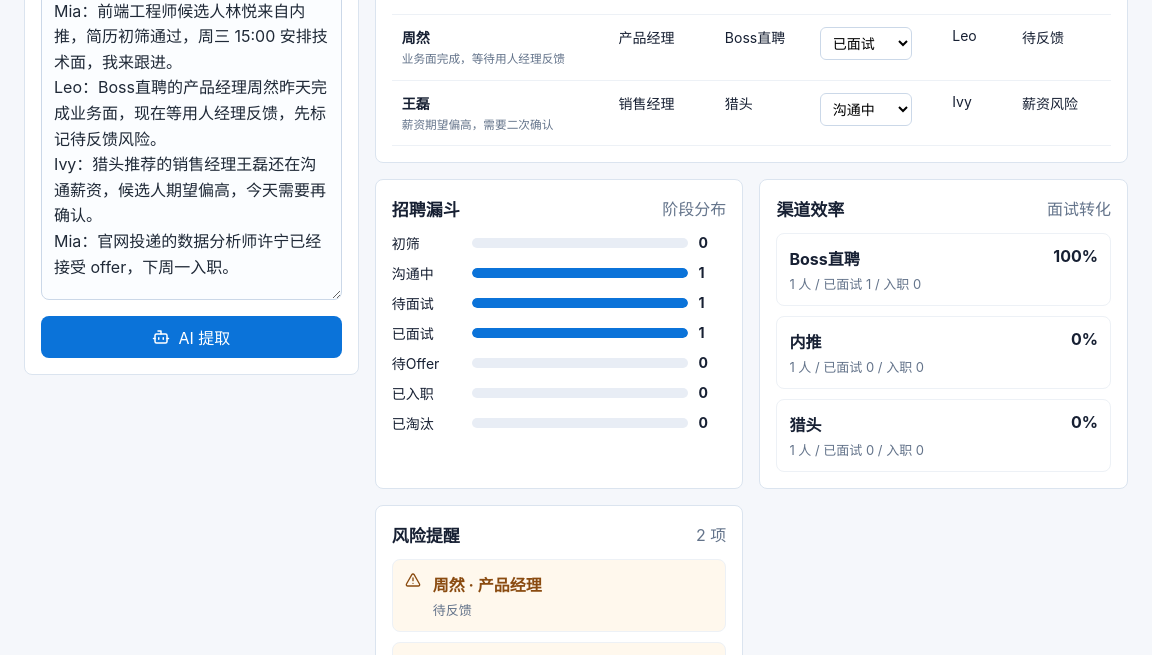
Scenario: App › merges successfully extracted candidates and shows a status message
This screenshot has width=1152, height=655.
(page scrolled)
Click the button "AI 提取" at (191, 337), box [41,316,342,358]
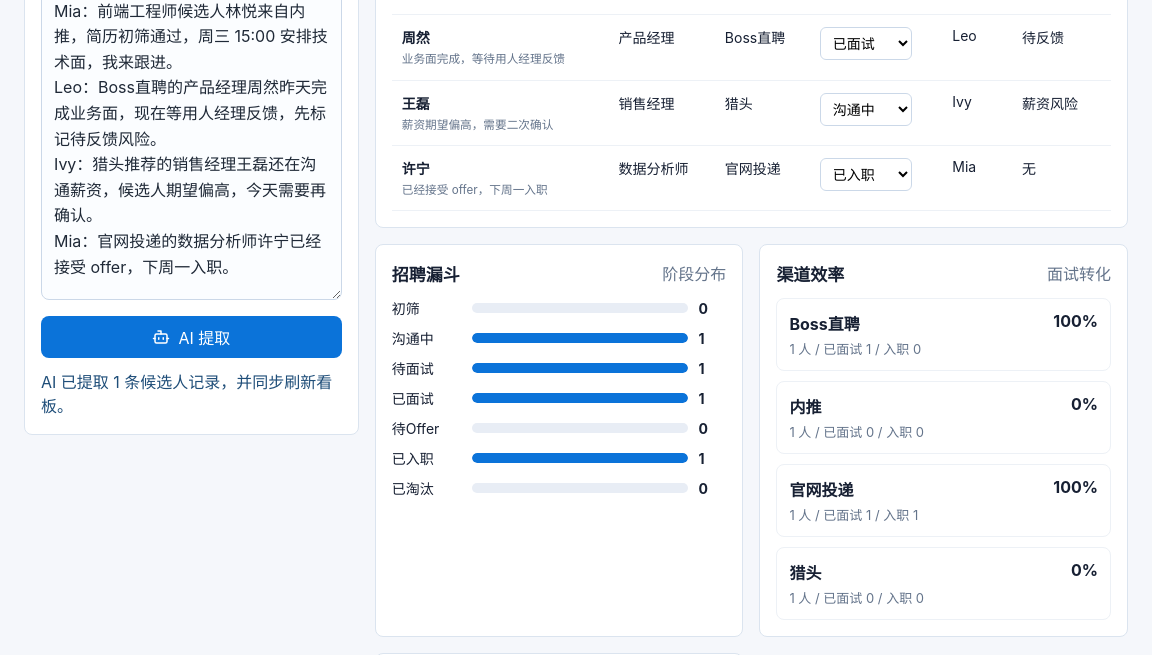
Expected: the text "许宁" is shown, [402,160,430,177]
Expected: the message reads "AI 已提取 1 条候选人记录，并同步刷新看板。", [41,372,332,416]
